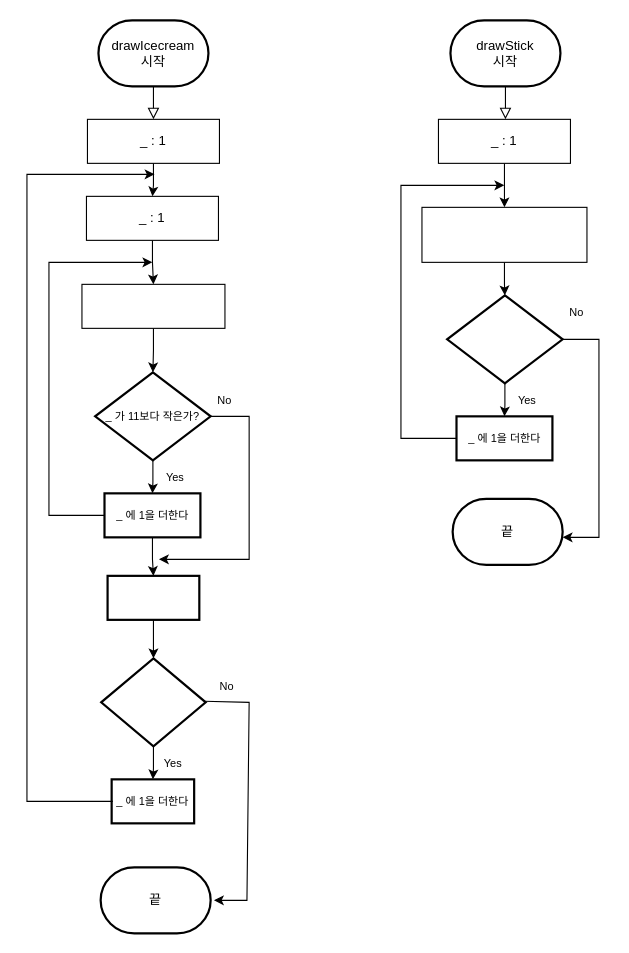
Image size: 629x953. Some labels were removed from this diagram. Here are the shapes that lost their labels. From the top down, the centre of each, then its label:
pixel 504 234: 4개 공백문자로 이루어진 두 문자열을 "| |"의 seperator로 연결시켜서 출력
pixel 153 305: * 하나 출력 terminator 옵션으로 개행제거
pixel 504 339: _ 가 4보다 작은가?
pixel 153 597: 개행
pixel 153 702: _가 8보다 작은가?
